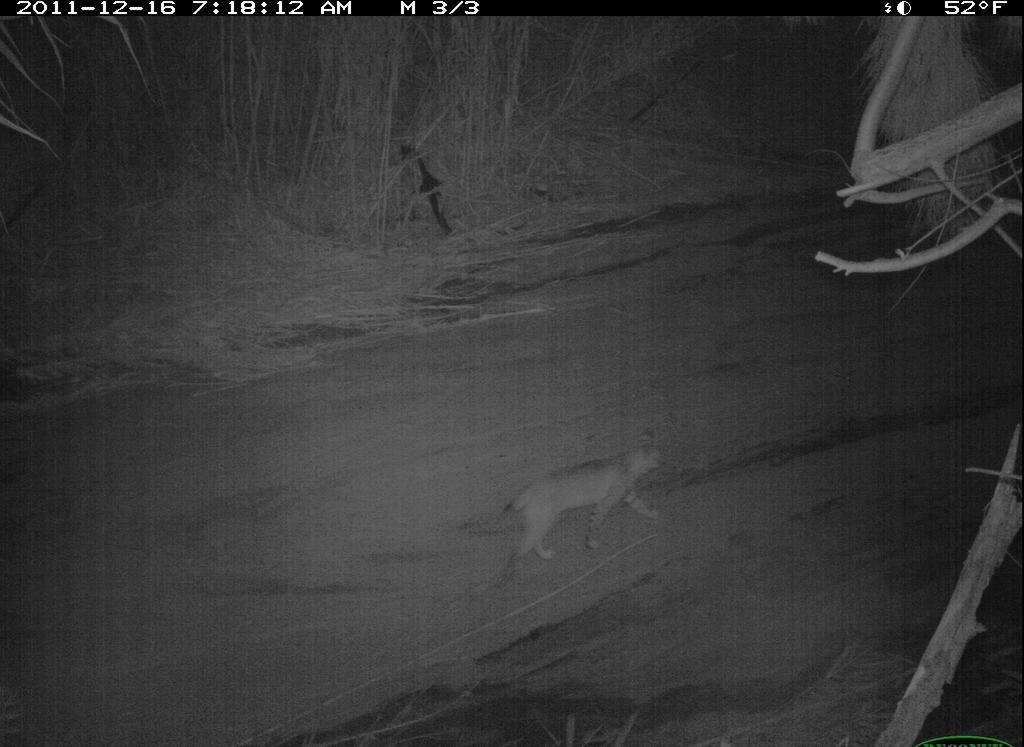bobcat: (504, 434, 674, 579)
